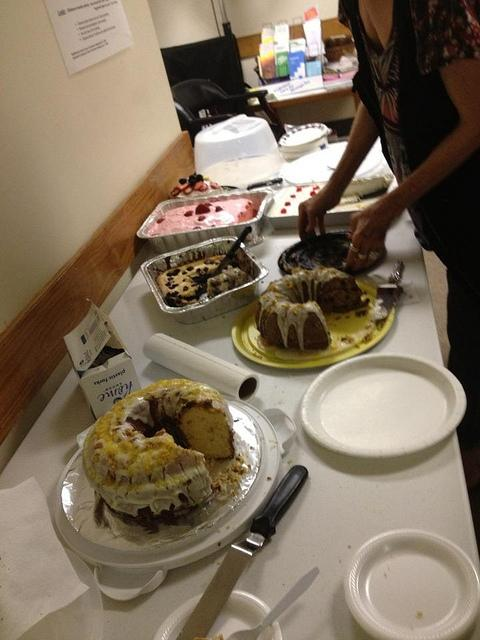strawberry: (196, 204, 210, 215), (170, 187, 182, 197), (176, 182, 189, 190), (183, 186, 194, 195), (193, 182, 202, 190), (210, 182, 221, 188), (184, 211, 194, 217), (197, 216, 206, 222), (156, 218, 164, 224), (216, 206, 223, 212), (205, 202, 212, 205)
